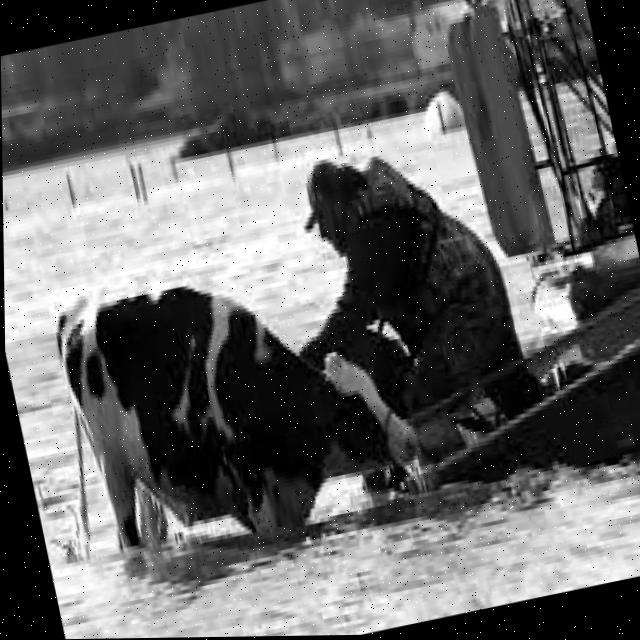civilian: (266, 125, 535, 441)
cow: (33, 229, 438, 571)
